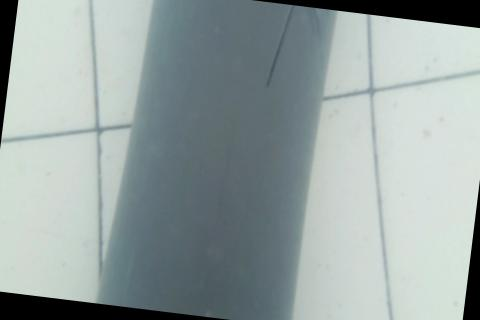keretakan: (264, 3, 326, 98)
